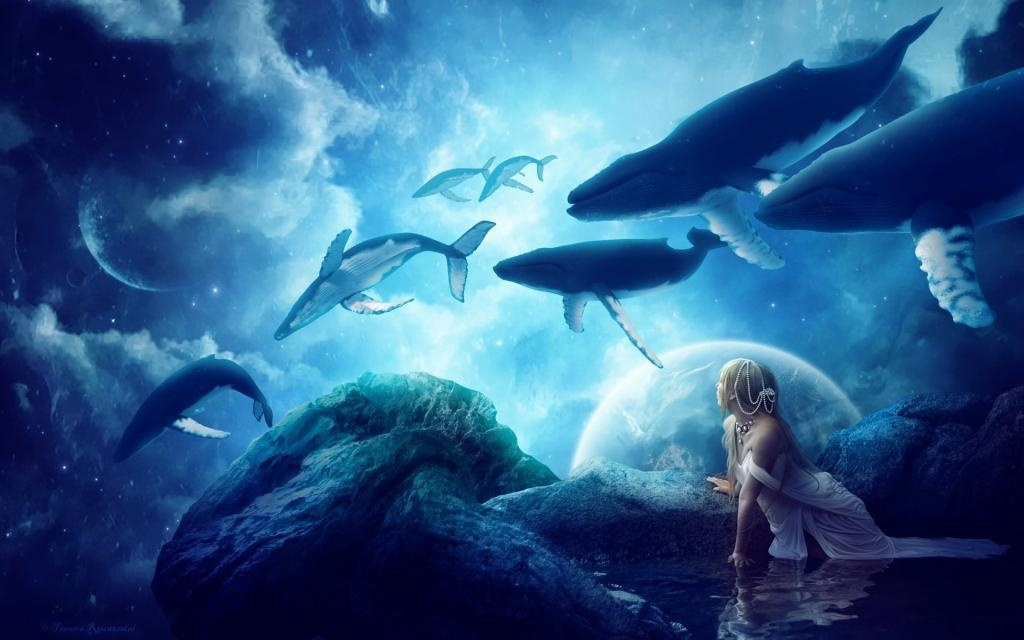fish: (555, 6, 944, 216), (493, 223, 746, 369), (266, 210, 492, 336), (114, 351, 277, 467)
